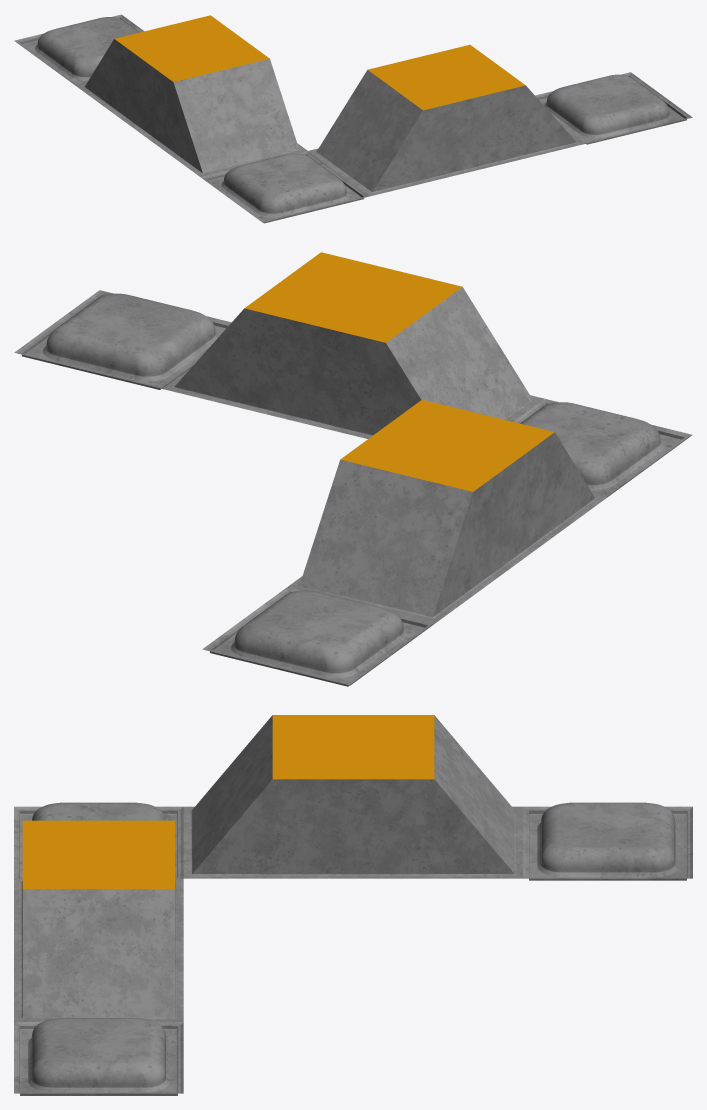
Rendered from SM_Ceiling_25.fbx.
3 renders of one model, top to bottom at view 1: azimuth 30°, elevation 25°; view 2: azimuth 150°, elevation 25°; view 3: azimuth 270°, elevation 25°, orthographic. The views are drawn at different scales.
Visible parts, largest first — view 1: SM_Ceiling_25; view 2: SM_Ceiling_25; view 3: SM_Ceiling_25.
Boxes of the visible parts, left/top/right/bottom form: SM_Ceiling_25: left=14, top=14, right=692, bottom=223; SM_Ceiling_25: left=14, top=252, right=692, bottom=686; SM_Ceiling_25: left=14, top=715, right=692, bottom=1095.
Bounding box in the file's own units: 400 × 65.09 × 400.
